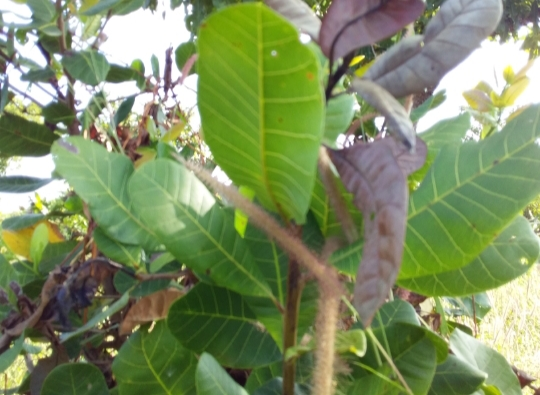Dessèchement des bourgeons: (47, 257, 127, 321)
